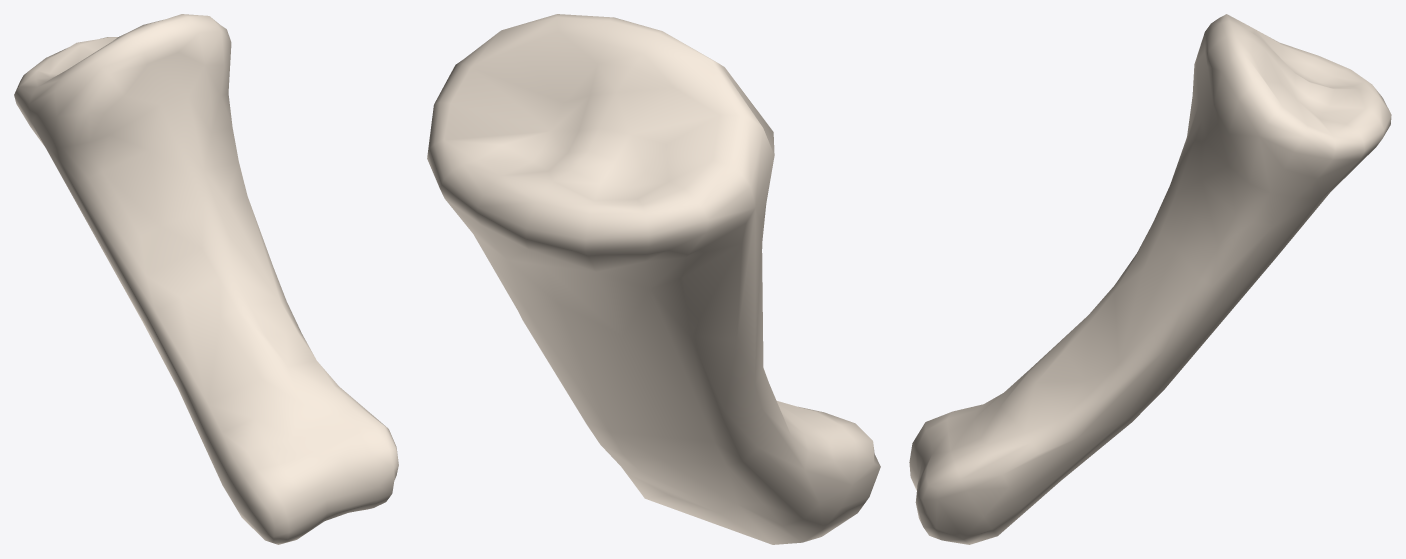
The model's file is left_digit_3_middle.glb.
The picture shows the model from 3 angles, left to right: view 1: azimuth 30°, elevation 25°; view 2: azimuth 150°, elevation 25°; view 3: azimuth 270°, elevation 25°; orthographic projection. The views are drawn at different scales.
Visible parts, largest first — view 1: Middle phalanx of 3rd finger.r; view 2: Middle phalanx of 3rd finger.r; view 3: Middle phalanx of 3rd finger.r.
Boxes of the visible parts, box(x1,y1,x2,y2) form: Middle phalanx of 3rd finger.r: box(14, 14, 398, 544); Middle phalanx of 3rd finger.r: box(427, 14, 880, 544); Middle phalanx of 3rd finger.r: box(909, 14, 1391, 544).
Bounding box in the file's own units: 0.014 × 0.026 × 0.0238.
